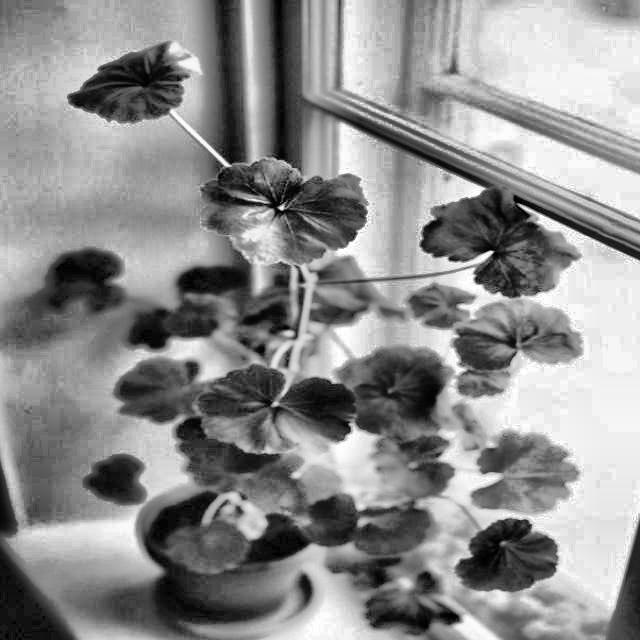plants: (86, 58, 522, 562)
